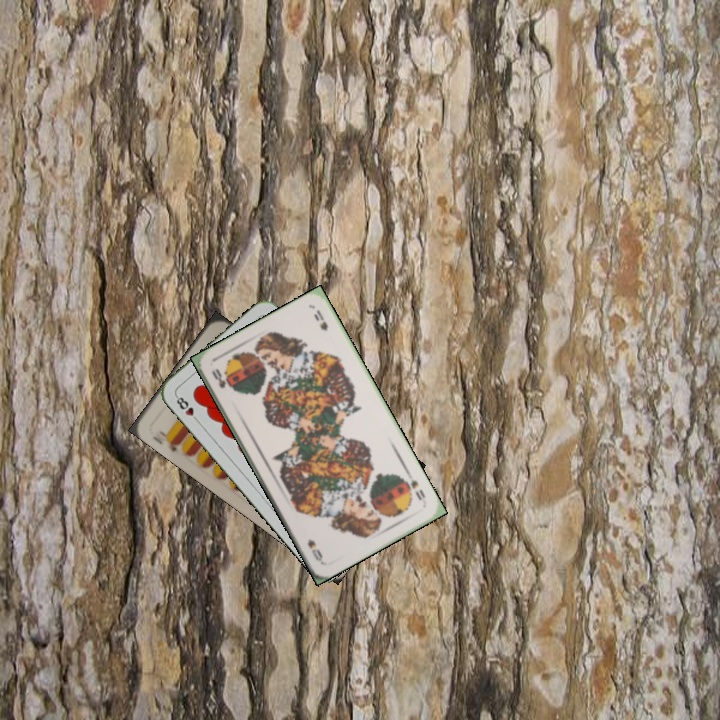E10: (155, 426, 183, 454)
H8: (172, 391, 202, 425)
SO: (207, 365, 233, 391), (406, 475, 428, 503)
